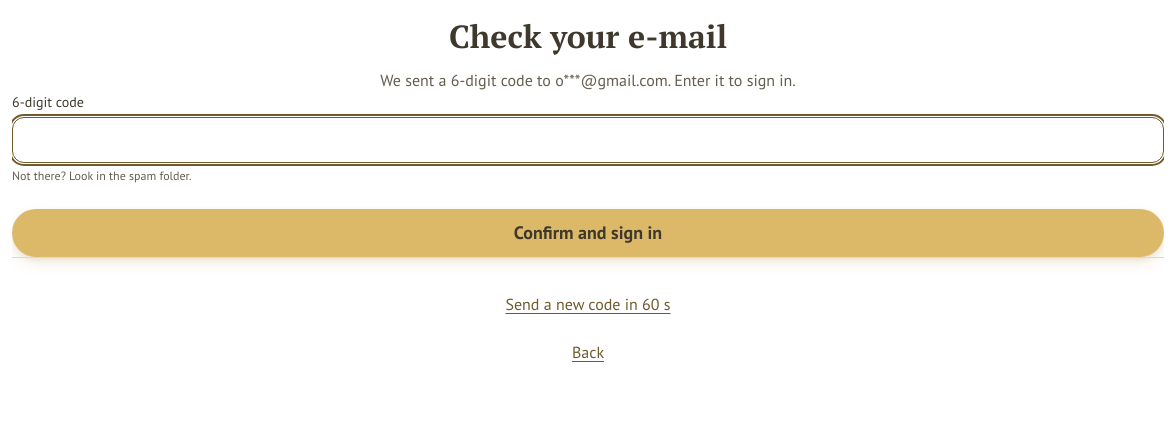
Test: EmailCodeForm › shows the server answer for a wrong code and stays on the step
Type "123456" into the field labelled "6-digit code".
click(588, 140); type("123456")  # box [12, 117, 1164, 163]
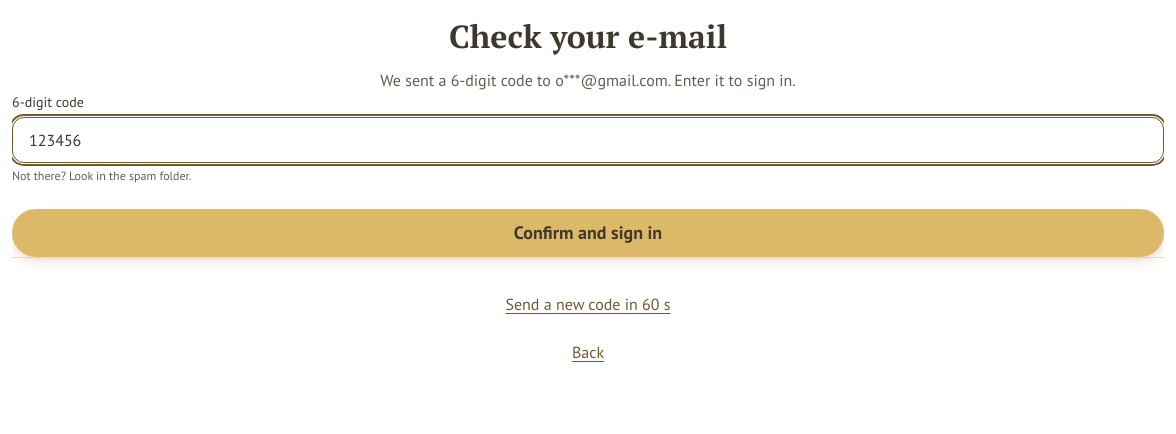
Click the button "Confirm and sign in".
click(588, 233)  # box [12, 209, 1164, 257]
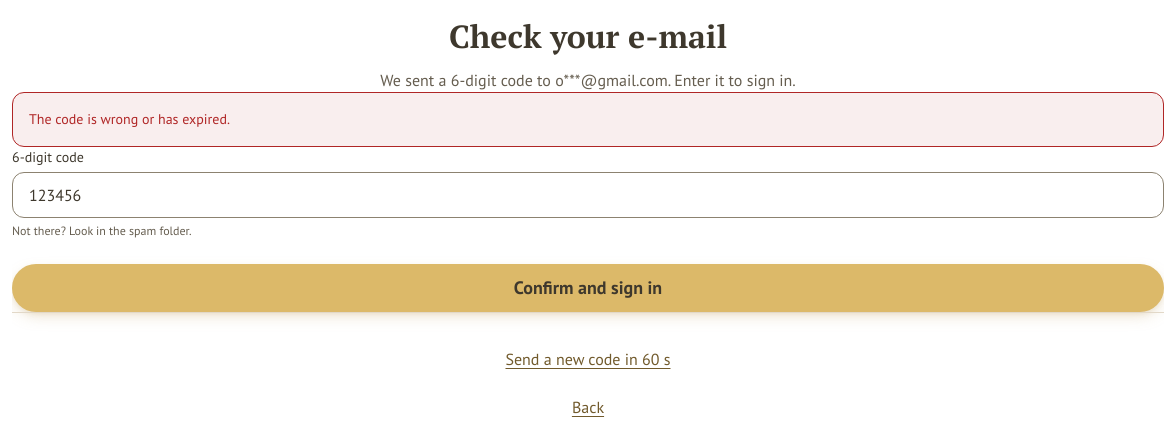
Check: the message reads "The code is wrong or has expired.", box [29, 110, 230, 128]
